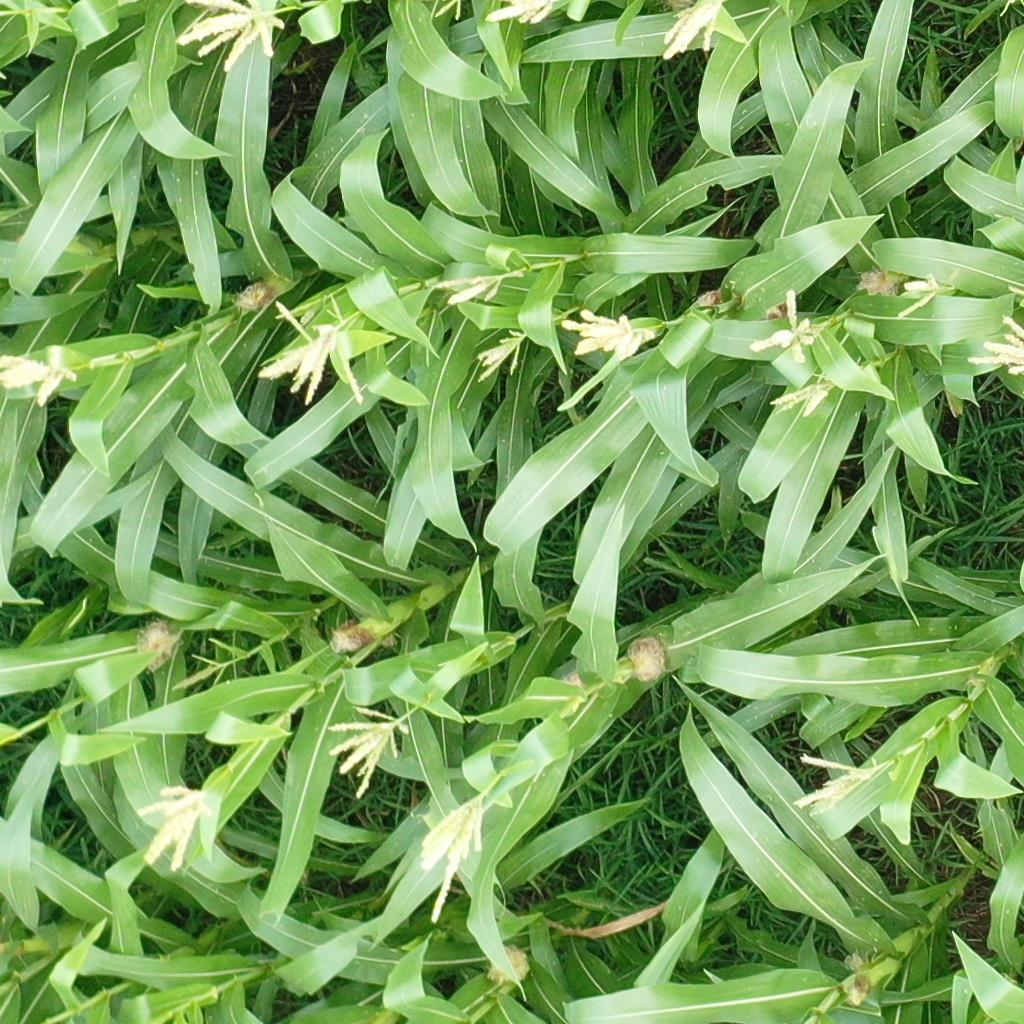Tassel: (259, 294, 372, 411), (554, 307, 653, 413), (418, 791, 490, 925), (323, 705, 415, 803), (174, 1, 290, 74), (789, 749, 883, 818), (140, 785, 213, 870), (965, 284, 1024, 376), (748, 289, 817, 365), (1, 352, 79, 408), (661, 1, 726, 61), (432, 268, 528, 306), (473, 328, 530, 385), (767, 372, 836, 417), (888, 276, 956, 317), (166, 652, 230, 689), (485, 1, 558, 28), (557, 693, 585, 723), (432, 1, 465, 22)
